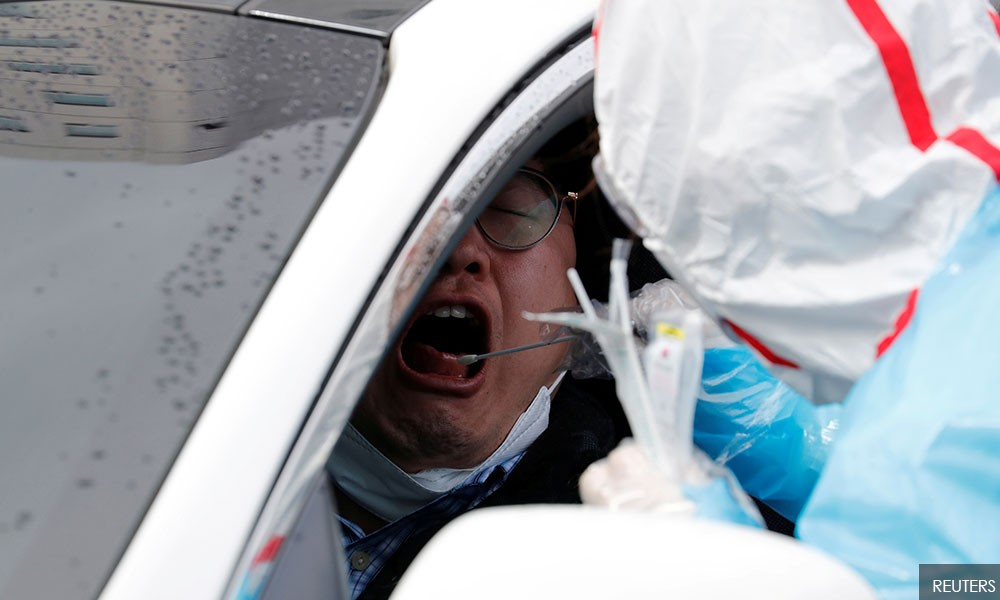mask_weared_incorrect: (334, 156, 575, 498)
